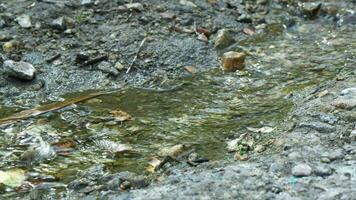Stagnant water: (20, 6, 328, 196)
